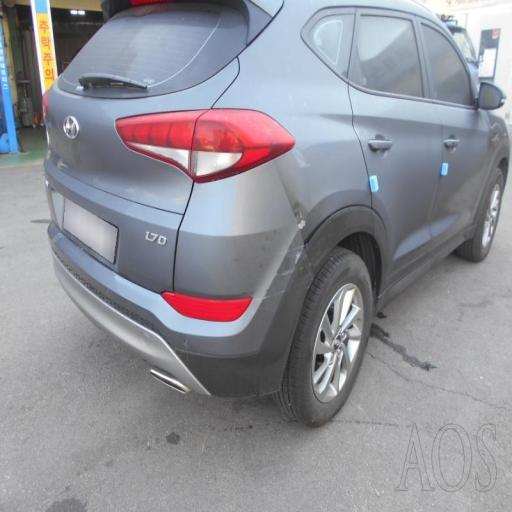scratch: (256, 185, 336, 295)
